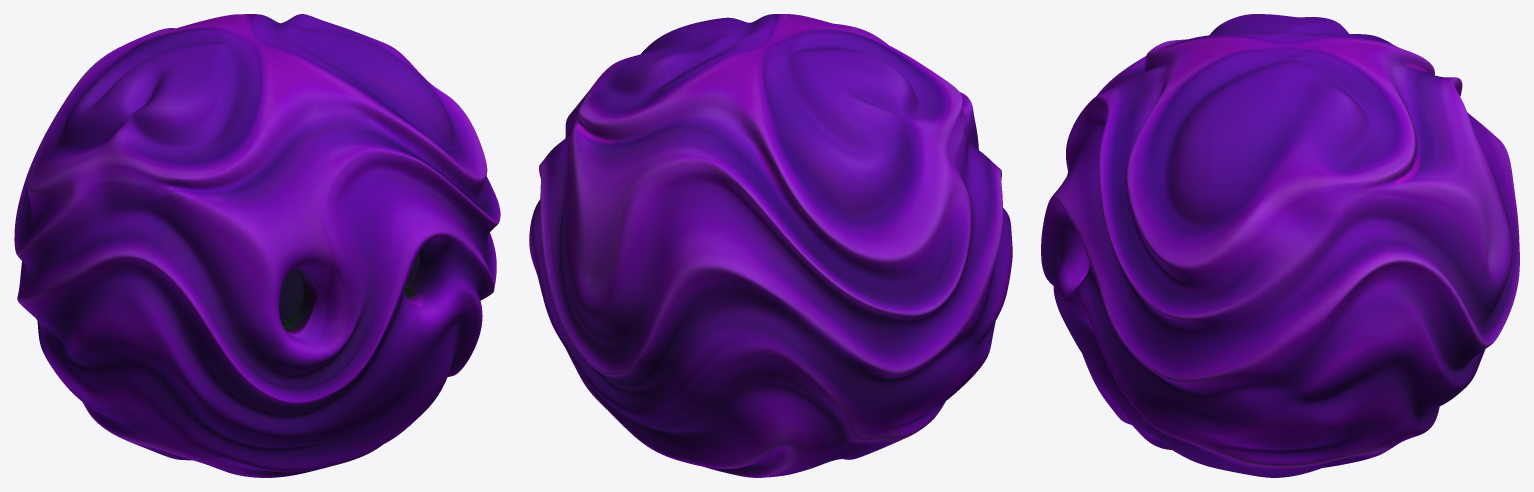
File: sinusoid-base.glb
3 renders of one model, left to right at view 1: azimuth 30°, elevation 25°; view 2: azimuth 150°, elevation 25°; view 3: azimuth 270°, elevation 25°, orthographic.
Bounding box in the file's own units: 1.9 × 1.75 × 1.87.
1 material, 1 textured.
